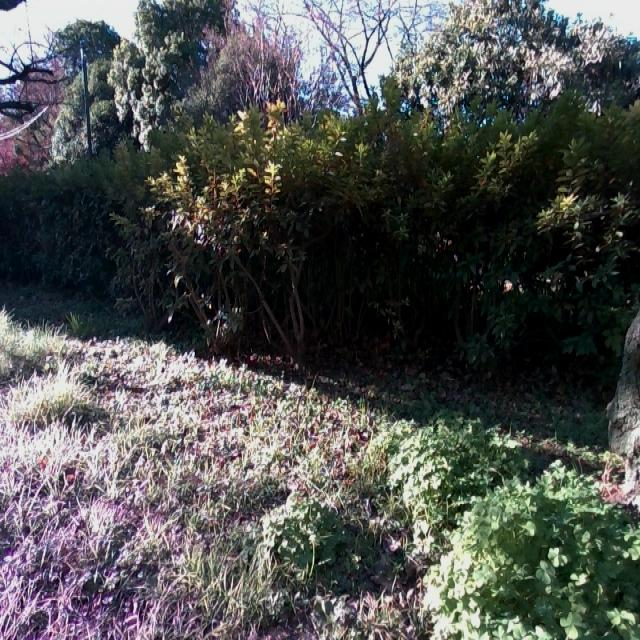bush: (0, 73, 632, 402)
